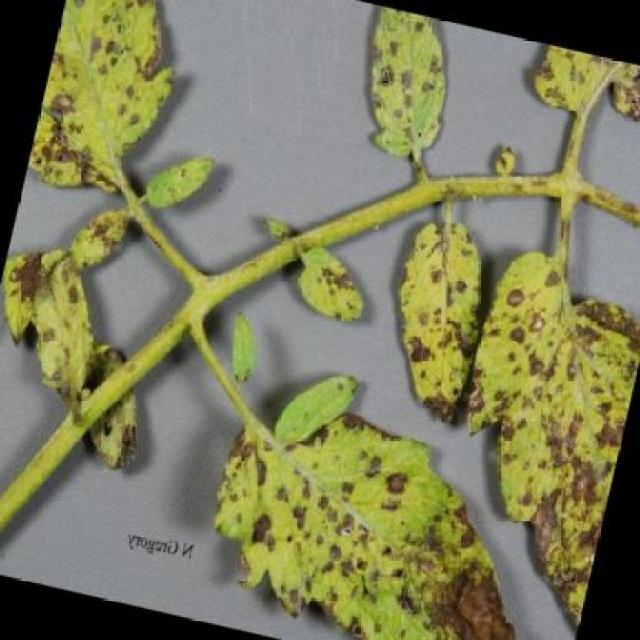Septoria leaf spot: (183, 406, 575, 639), (422, 197, 638, 611), (19, 0, 223, 242), (370, 214, 516, 441), (320, 0, 471, 182), (0, 221, 118, 421), (277, 237, 386, 354)
